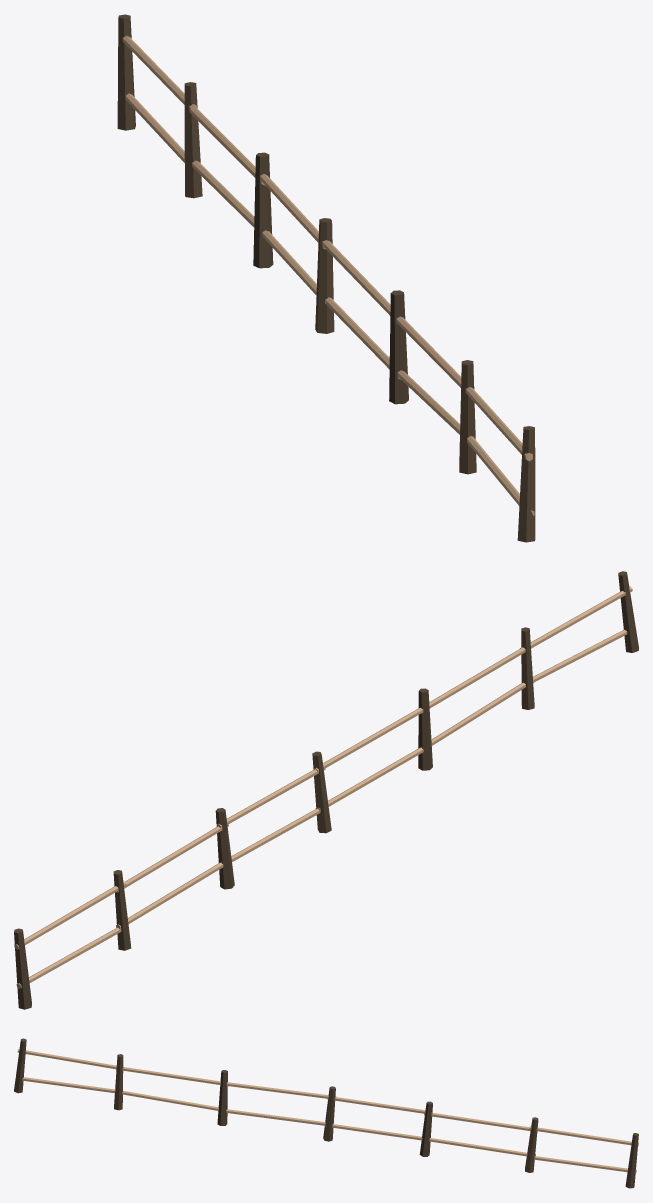
Rendered from fence.glb.
3 views of the same model, one above another, from view 1: azimuth 30°, elevation 25°; view 2: azimuth 150°, elevation 25°; view 3: azimuth 270°, elevation 25° (orthographic). The views are drawn at different scales.
Parts seen in each view (by area): view 1: Fence_Post_4, Fence_Post_2, Fence_Post_0, Fence_Post_3, Fence_Post_6, Fence_Post_5, Fence_Post_1, Fence_Rail_2.001, Fence_Rail_4.001, Fence_Rail_2, Fence_Rail_1.001, Fence_Rail_5.001 (+6 smaller); view 2: Fence_Post_2, Fence_Post_4, Fence_Post_6, Fence_Post_3, Fence_Post_0, Fence_Post_1, Fence_Post_5, Fence_Rail_2.001, Fence_Rail_5.001, Fence_Rail_4, Fence_Rail_0.001, Fence_Rail_4.001 (+7 smaller); view 3: Fence_Post_2, Fence_Post_4, Fence_Post_3, Fence_Rail_2.001, Fence_Post_6, Fence_Rail_2, Fence_Post_5, Fence_Rail_4.001, Fence_Rail_4, Fence_Rail_1.001, Fence_Post_1, Fence_Rail_5.001 (+7 smaller).
Boxes of the visible parts, left/top/right/bottom form: Fence_Post_4: left=253, top=152, right=273, bottom=268; Fence_Post_2: left=389, top=290, right=408, bottom=404; Fence_Post_0: left=517, top=426, right=535, bottom=542; Fence_Post_3: left=315, top=218, right=334, bottom=333; Fence_Post_6: left=117, top=14, right=135, bottom=130; Fence_Post_5: left=184, top=82, right=202, bottom=198; Fence_Post_1: left=459, top=360, right=476, bottom=474; Fence_Rail_2.001: left=318, top=237, right=403, bottom=318; Fence_Rail_4.001: left=189, top=107, right=264, bottom=185; Fence_Rail_2: left=325, top=297, right=400, bottom=379; Fence_Rail_1.001: left=396, top=317, right=461, bottom=387; Fence_Rail_5.001: left=122, top=35, right=197, bottom=110; Fence_Post_2: left=418, top=688, right=432, bottom=770; Fence_Post_4: left=215, top=808, right=234, bottom=889; Fence_Post_6: left=14, top=928, right=31, bottom=1009; Fence_Post_3: left=312, top=751, right=331, bottom=833; Fence_Post_0: left=618, top=571, right=638, bottom=652; Fence_Post_1: left=521, top=627, right=534, bottom=709; Fence_Post_5: left=113, top=870, right=131, bottom=950; Fence_Rail_2.001: left=313, top=707, right=423, bottom=772; Fence_Rail_5.001: left=14, top=881, right=125, bottom=949; Fence_Rail_4: left=116, top=862, right=223, bottom=929; Fence_Rail_0.001: left=520, top=586, right=632, bottom=650; Fence_Rail_4.001: left=116, top=824, right=228, bottom=892; Fence_Post_2: left=217, top=1070, right=227, bottom=1125; Fence_Post_4: left=419, top=1101, right=432, bottom=1156; Fence_Post_3: left=323, top=1086, right=335, bottom=1141; Fence_Rail_2.001: left=220, top=1082, right=336, bottom=1098; Fence_Post_6: left=625, top=1133, right=638, bottom=1188; Fence_Rail_2: left=218, top=1109, right=333, bottom=1125; Fence_Post_5: left=525, top=1117, right=538, bottom=1172; Fence_Rail_4.001: left=424, top=1113, right=537, bottom=1131; Fence_Rail_4: left=422, top=1138, right=535, bottom=1157; Fence_Rail_1.001: left=116, top=1067, right=228, bottom=1086; Fence_Post_1: left=114, top=1054, right=123, bottom=1110; Fence_Rail_5.001: left=529, top=1126, right=638, bottom=1145.
Size of the model in its own units: 8.33 by 6.73 by 39.21.
